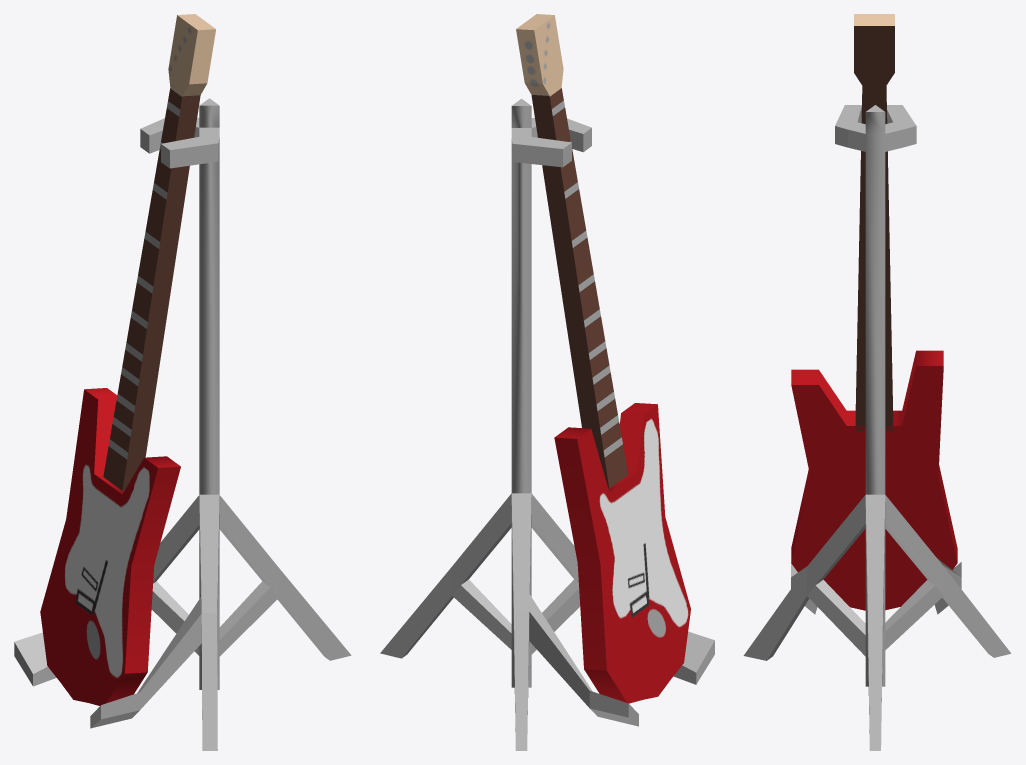
File: GuitarWithStand.FBX
3 renders of one model, left to right at view 1: azimuth 30°, elevation 25°; view 2: azimuth 150°, elevation 25°; view 3: azimuth 270°, elevation 25°, orthographic.
Parts seen in each view (by area): view 1: Box002, SpeakerStand; view 2: Box002, SpeakerStand; view 3: Box002, SpeakerStand.
Part boxes in pixels (bbox=[...]): Box002: bbox=[40, 14, 215, 705]; SpeakerStand: bbox=[14, 98, 351, 750]; Box002: bbox=[516, 14, 690, 703]; SpeakerStand: bbox=[380, 98, 714, 750]; Box002: bbox=[791, 14, 957, 610]; SpeakerStand: bbox=[743, 105, 1010, 750].
Size of the model in its own units: 34.58 by 76.22 by 28.09.
